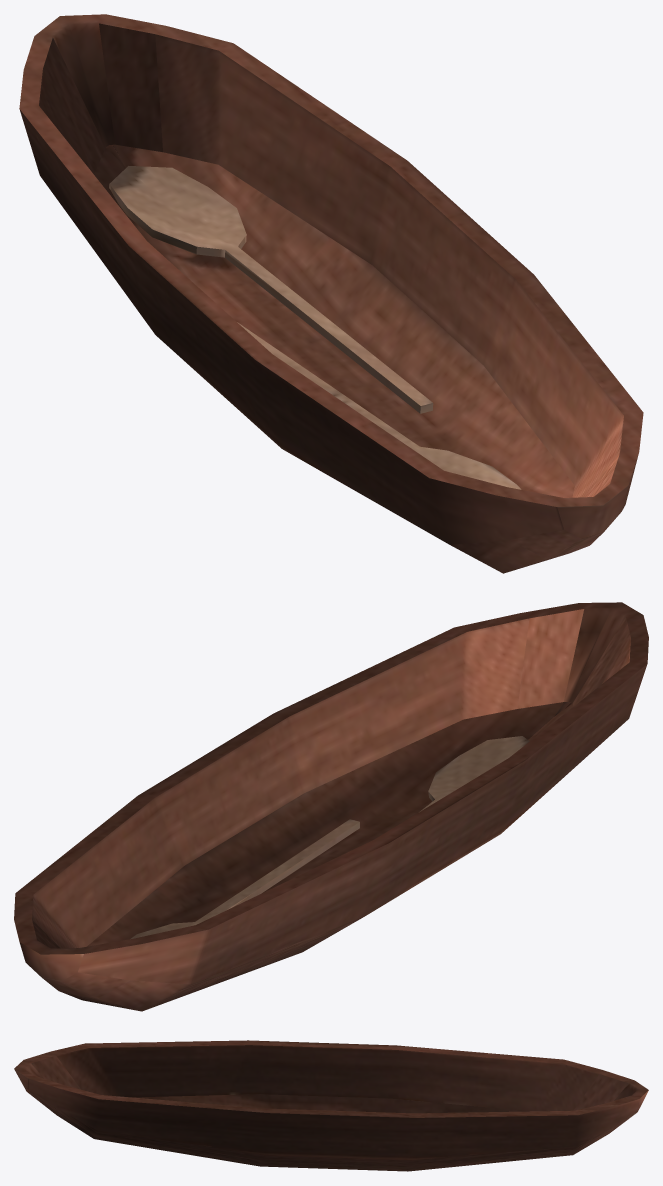
The model's file is Boat1.fbx.
3 renders of one model, top to bottom at view 1: azimuth 30°, elevation 25°; view 2: azimuth 150°, elevation 25°; view 3: azimuth 270°, elevation 25°, orthographic. The views are drawn at different scales.
Visible parts, largest first — view 1: Gom_Canoa1_00; view 2: Gom_Canoa1_00; view 3: Gom_Canoa1_00.
Part boxes in pixels (x1=…): Gom_Canoa1_00: x1=19, y1=14, x2=643, y2=573; Gom_Canoa1_00: x1=14, y1=602, x2=648, y2=1011; Gom_Canoa1_00: x1=14, y1=1040, x2=648, y2=1171.
Bounding box in the file's own units: 0.7362 × 0.3498 × 2.54.
